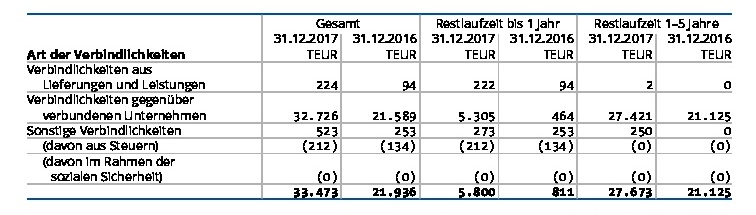table: (0, 0, 756, 215)
